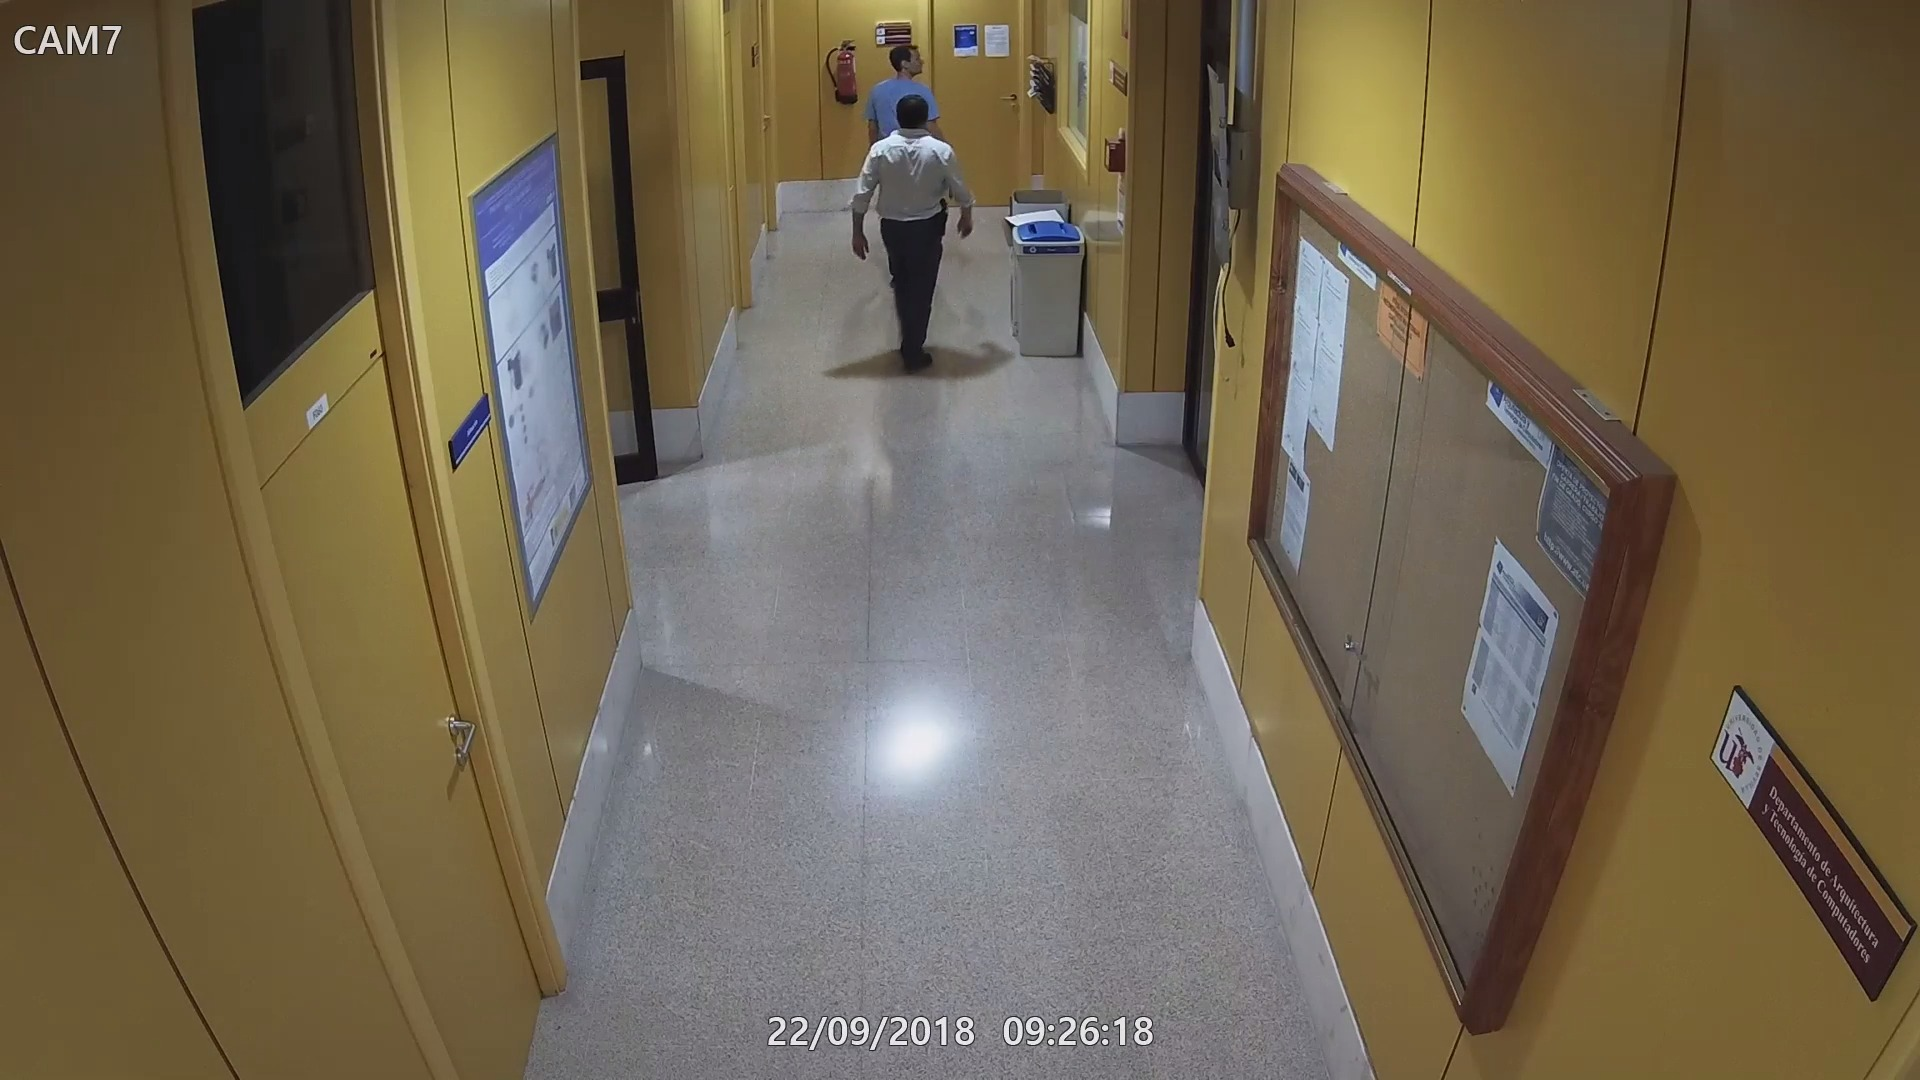pistol: (930, 195, 957, 237)
